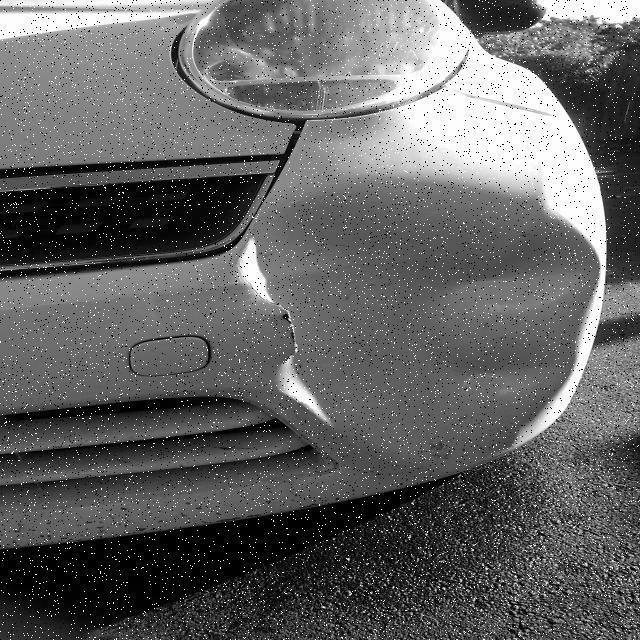front-bumper-dent: (0, 272, 602, 554), (0, 130, 600, 346)
